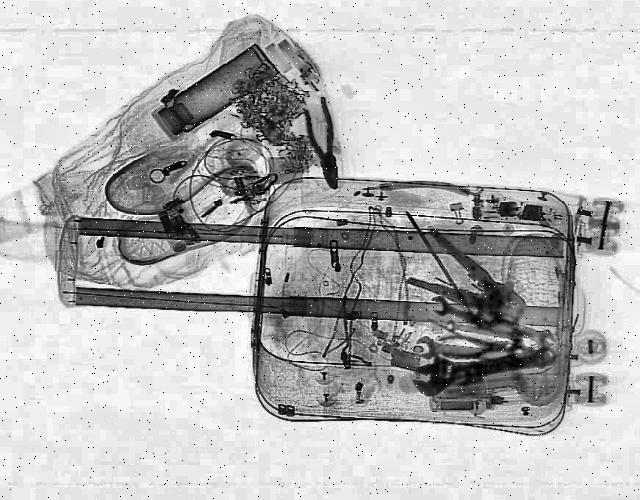Pliers: (390, 228, 556, 328), (297, 98, 345, 192)
Wrench: (404, 338, 560, 400), (424, 296, 524, 344)
